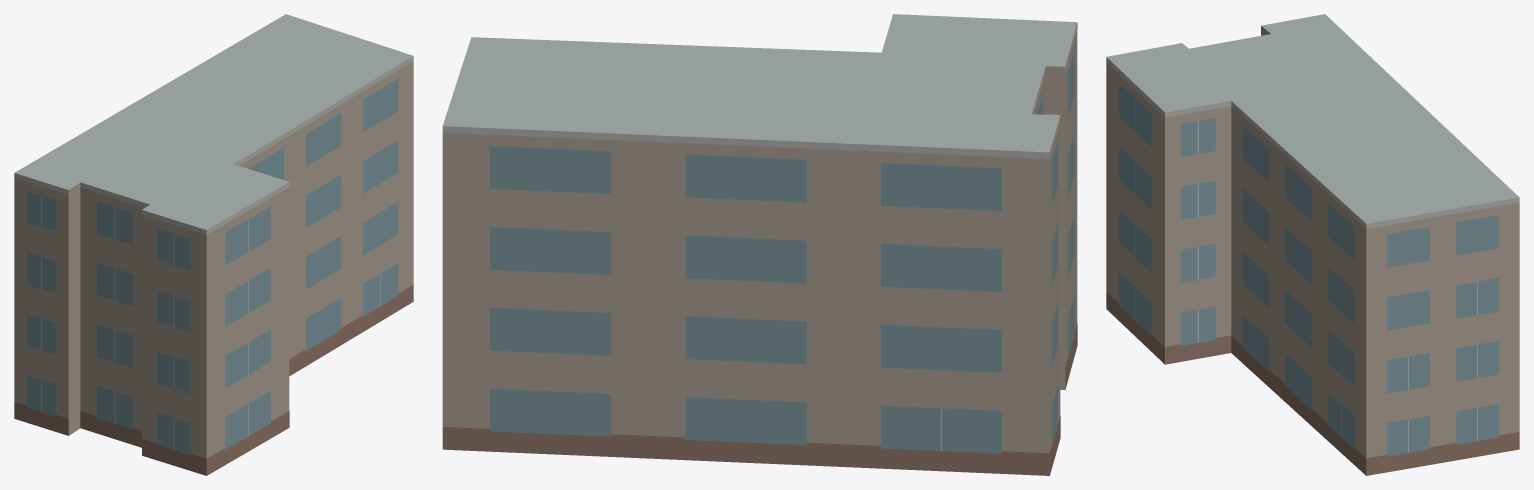
The model's file is survey-upis-32700633.glb.
3 renders of one model, left to right at view 1: azimuth 30°, elevation 25°; view 2: azimuth 150°, elevation 25°; view 3: azimuth 270°, elevation 25°, orthographic. The views are drawn at different scales.
Visible parts, largest first — view 1: survey-upis-32700633.tmp; view 2: survey-upis-32700633.tmp; view 3: survey-upis-32700633.tmp.
Part boxes in pixels (left/top/right/bottom): survey-upis-32700633.tmp: left=14, top=14, right=413, bottom=475; survey-upis-32700633.tmp: left=442, top=14, right=1077, bottom=475; survey-upis-32700633.tmp: left=1106, top=14, right=1519, bottom=475.
Size of the model in its own units: 21.26 by 11.9 by 17.69.
